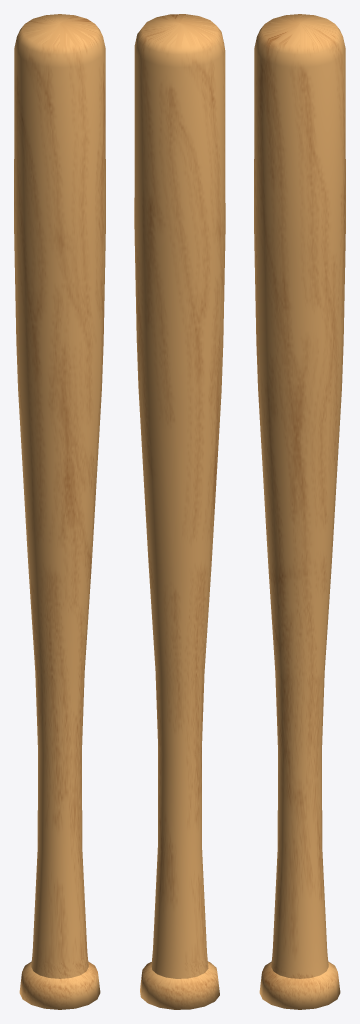
Rendered from bat.glb.
3 renders of one model, left to right at view 1: azimuth 90°, elevation 25°; view 2: azimuth 150°, elevation 25°; view 3: azimuth 270°, elevation 25°, orthographic.
Parts seen in each view (by area): view 1: Bat; view 2: Bat; view 3: Bat.
Part boxes in pixels (<box>): Bat: <box>14,14,105,1009</box>; Bat: <box>134,14,225,1009</box>; Bat: <box>254,14,345,1009</box>.
Size of the model in its own units: 0.0745 by 0.8704 by 0.0745.
1 material, 1 textured.
